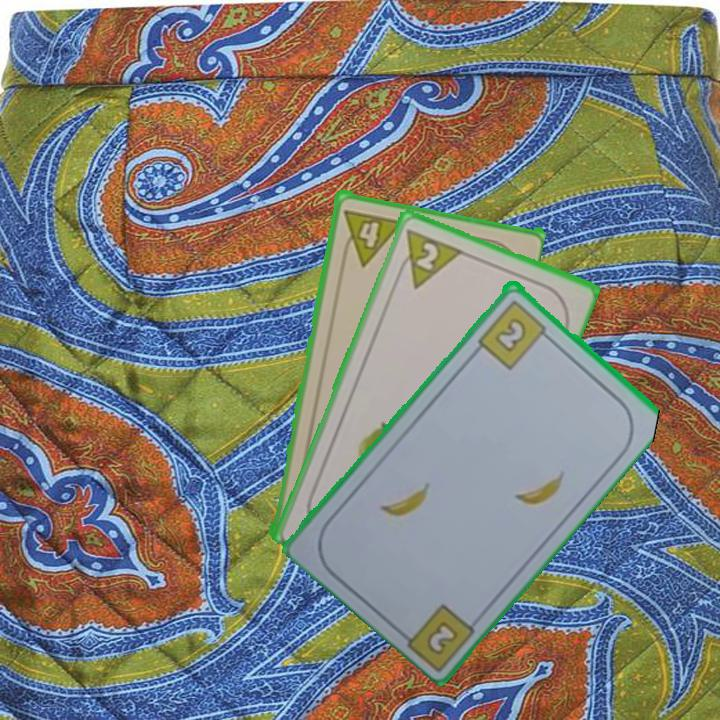2b: (474, 295, 554, 372), (422, 616, 462, 658)
2p: (391, 224, 464, 291)
4p: (337, 205, 404, 268)
